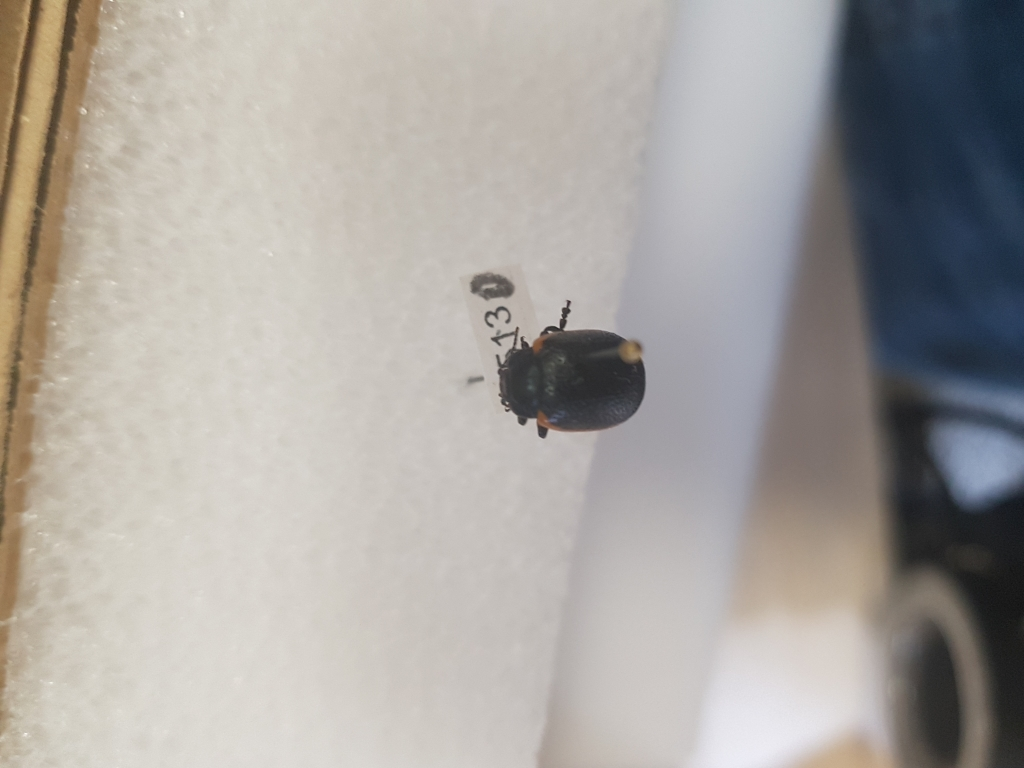Chrysolina_gypsophila: (495, 296, 650, 433)
